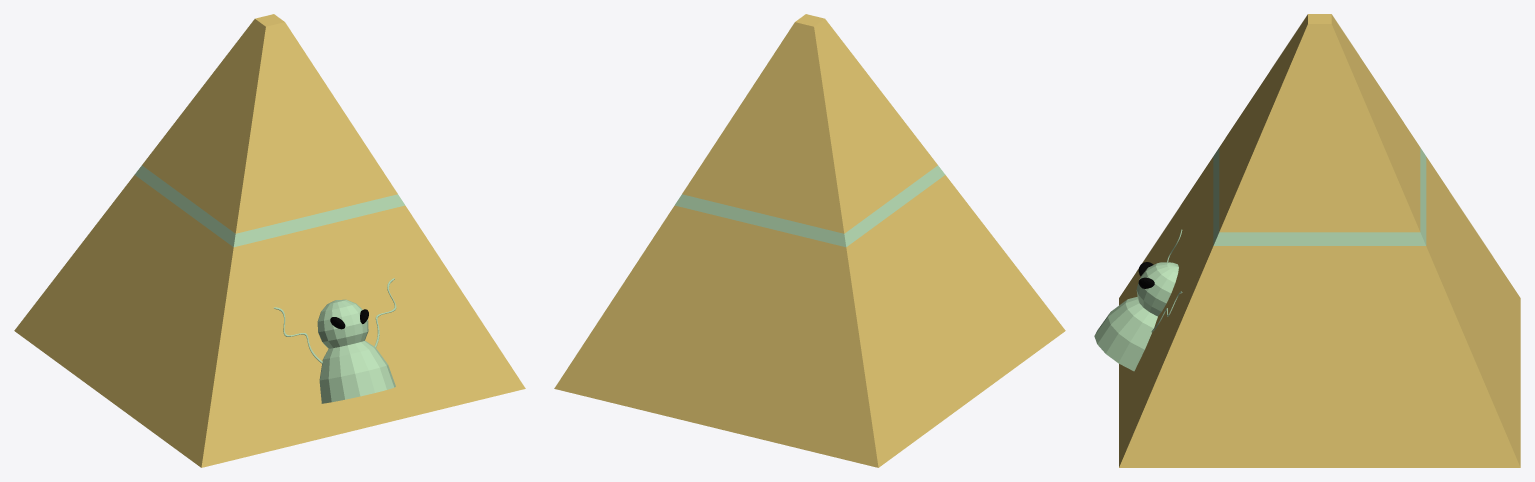
3 renders of one model, left to right at view 1: azimuth 30°, elevation 25°; view 2: azimuth 150°, elevation 25°; view 3: azimuth 270°, elevation 25°, orthographic. The views are drawn at different scales.
Visible parts, largest first — view 1: Pyramid, Sphere, Sphere.001; view 2: Pyramid; view 3: Pyramid, Sphere, Sphere.001.
Part boxes in pixels (x1,y1,x2,y2): Pyramid: [14, 14, 525, 467]; Sphere: [319, 340, 395, 403]; Sphere.001: [317, 299, 368, 348]; Pyramid: [554, 14, 1065, 467]; Pyramid: [1119, 14, 1520, 467]; Sphere: [1094, 296, 1157, 371]; Sphere.001: [1136, 262, 1178, 316].
Size of what is drawn, in the model's own units: 2 by 2 by 2.12.
